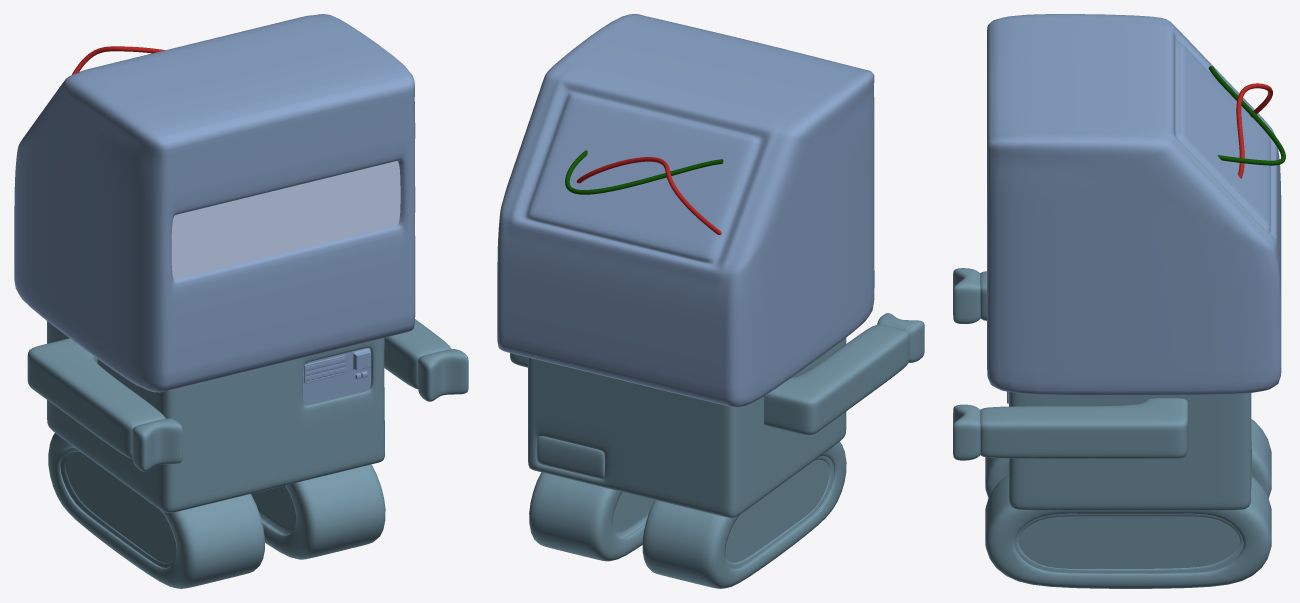
The model's file is Roboto.fbx.
3 views of the same model, side by side, from view 1: azimuth 30°, elevation 25°; view 2: azimuth 150°, elevation 25°; view 3: azimuth 270°, elevation 25° (orthographic). The views are drawn at different scales.
Visible parts, largest first — view 1: Cube.001; view 2: Cube.001; view 3: Cube.001.
Part boxes in pixels (<box>): Cube.001: <box>14,14,468,588</box>; Cube.001: <box>497,14,924,588</box>; Cube.001: <box>953,14,1285,588</box>.
Size of the model in its own units: 136 by 191 by 122.
